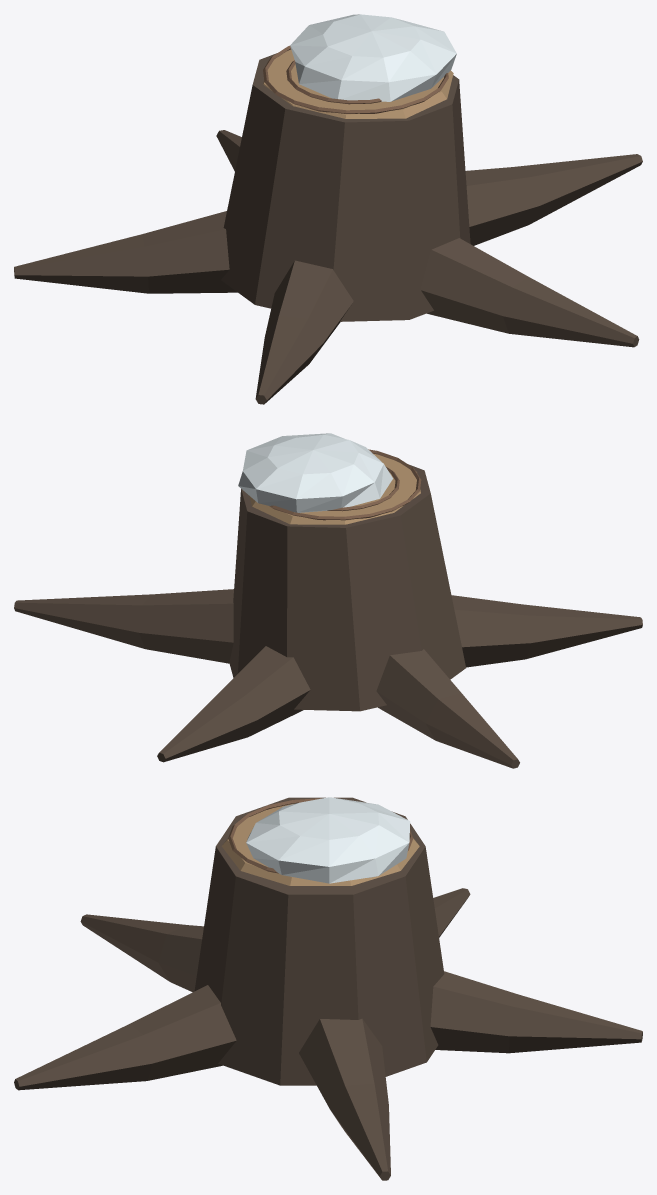
Rendered from LOG_01_SnowyStump.glb.
3 renders of one model, top to bottom at view 1: azimuth 30°, elevation 25°; view 2: azimuth 150°, elevation 25°; view 3: azimuth 270°, elevation 25°, orthographic. The views are drawn at different scales.
Visible parts, largest first — view 1: LOG_01_SnowyStump; view 2: LOG_01_SnowyStump; view 3: LOG_01_SnowyStump.
Part boxes in pixels (bbox=[...]): LOG_01_SnowyStump: bbox=[14, 14, 642, 404]; LOG_01_SnowyStump: bbox=[14, 433, 642, 768]; LOG_01_SnowyStump: bbox=[14, 797, 642, 1180].
Bounding box in the file's own units: 2.31 × 0.8992 × 2.16.
